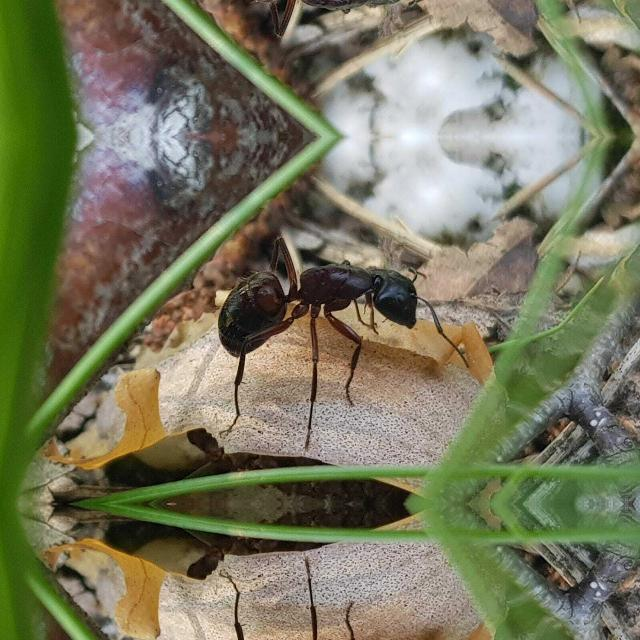Camponotus: (182, 240, 460, 364), (182, 0, 458, 32)
